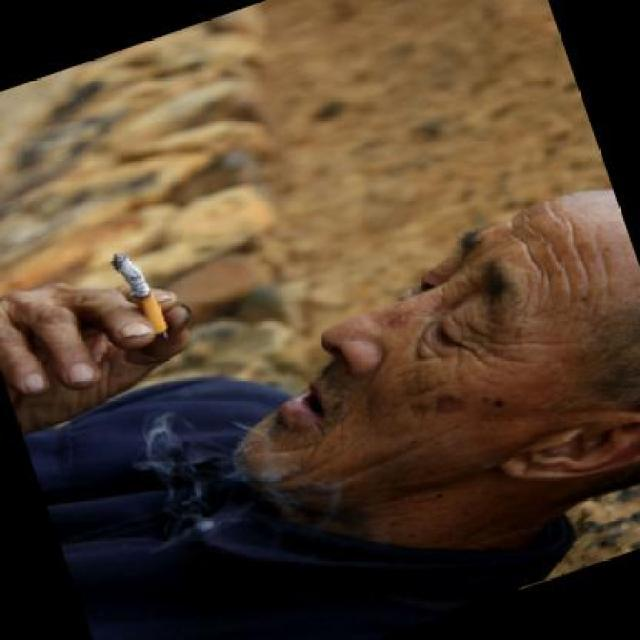cigarette: (100, 241, 173, 347)
